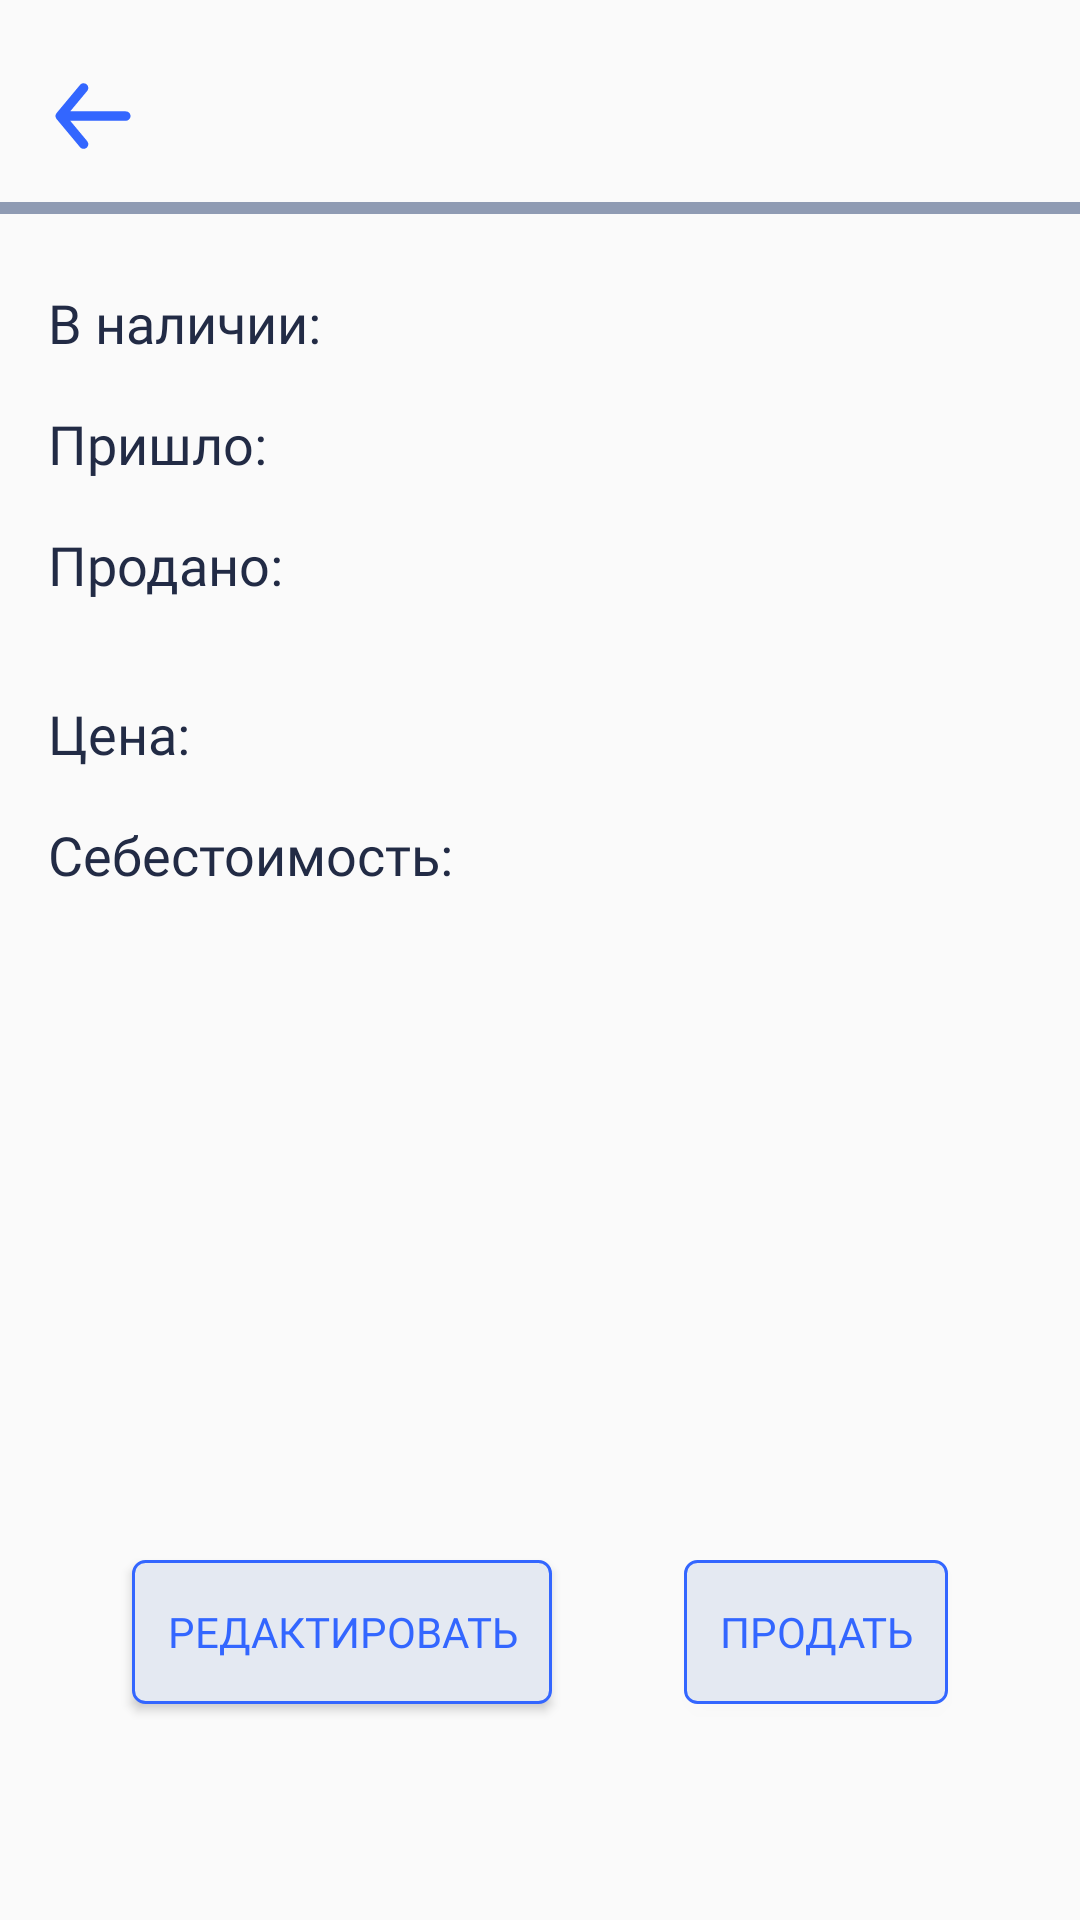

Point at icon controls on the screen. Image size 1080×1920, points as point (x, y).
left: point (93, 116)
